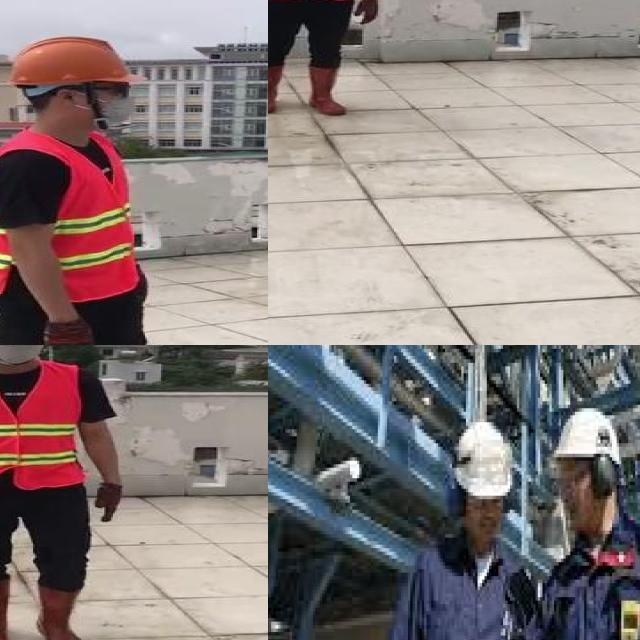Ear-protection: (589, 450, 614, 496), (448, 475, 468, 520), (498, 485, 514, 506)
boots: (36, 582, 89, 640), (302, 65, 346, 115), (0, 581, 15, 640), (268, 65, 282, 113)
face_mask: (81, 80, 143, 128), (0, 345, 47, 362)
glasses: (100, 80, 134, 99)
hand_glove: (40, 322, 95, 345), (95, 482, 120, 525), (353, 0, 379, 24), (142, 268, 152, 298)
head_helmet: (5, 35, 148, 89), (445, 418, 512, 502), (542, 402, 622, 464)
person: (0, 32, 258, 345), (0, 345, 141, 640), (394, 426, 533, 640), (549, 415, 640, 640), (268, 0, 395, 120)
vest: (0, 137, 138, 300), (0, 362, 82, 488)
